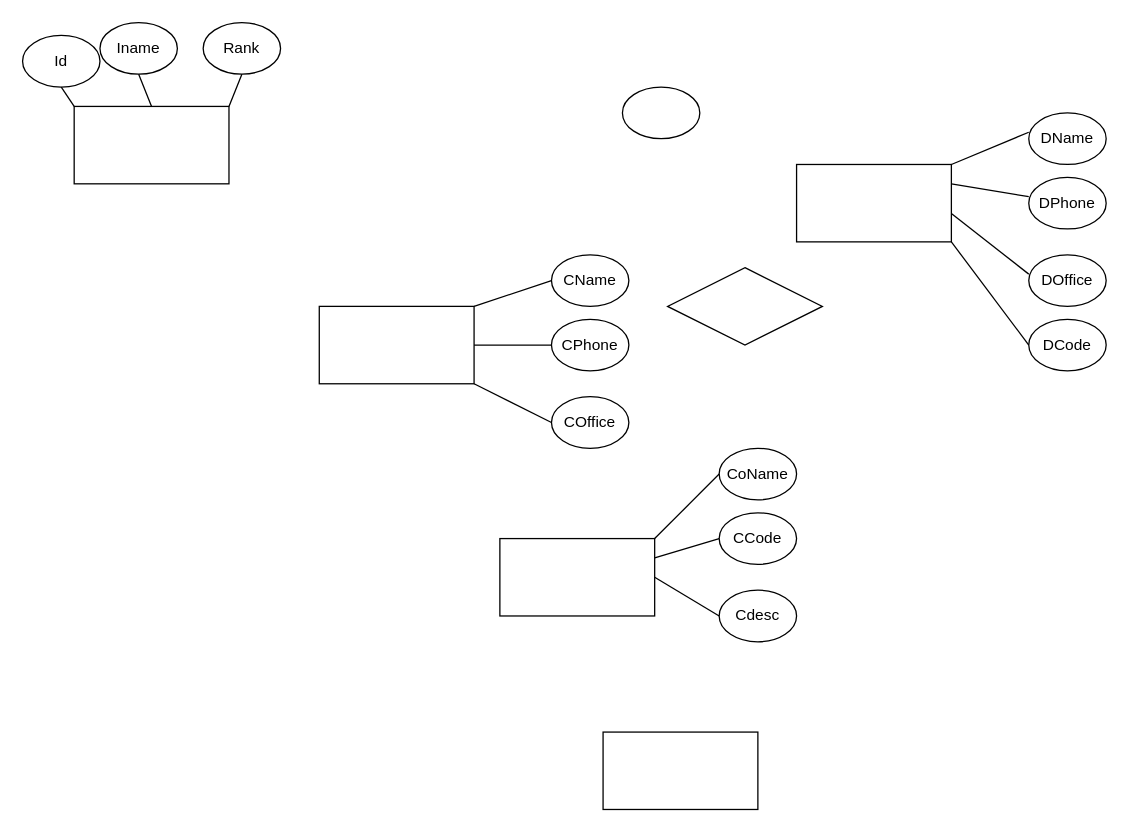
Some shapes in this 1129 by 832 pixel diagram are drawn without their labels. The shapes that lost their labels are listed below. From the top down, each one's centre as x and y in pixels, then its label:
At pixel 660 112: "CStartDate".
At pixel 151 144: "INSTRUCTOR".
At pixel 873 202: "DEPT".
At pixel 744 305: "Relationship".
At pixel 396 344: "COLLEGE".
At pixel 577 576: "COURSE".
At pixel 680 770: "STUDENT".
